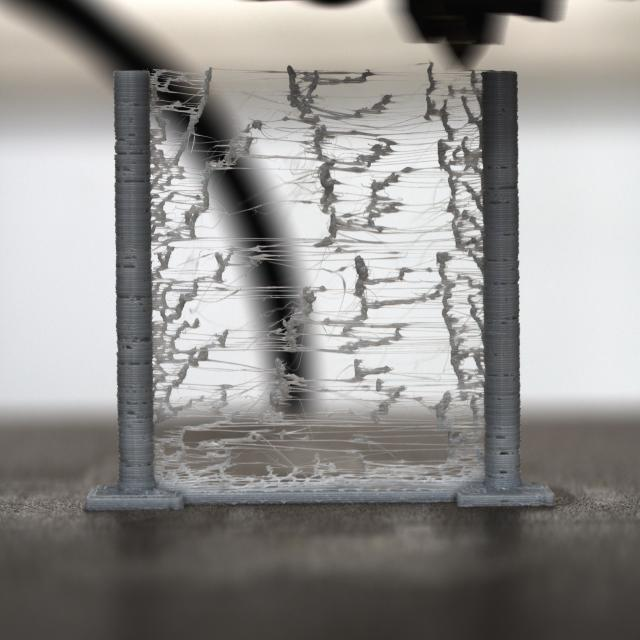Warping: (152, 68, 483, 493)
